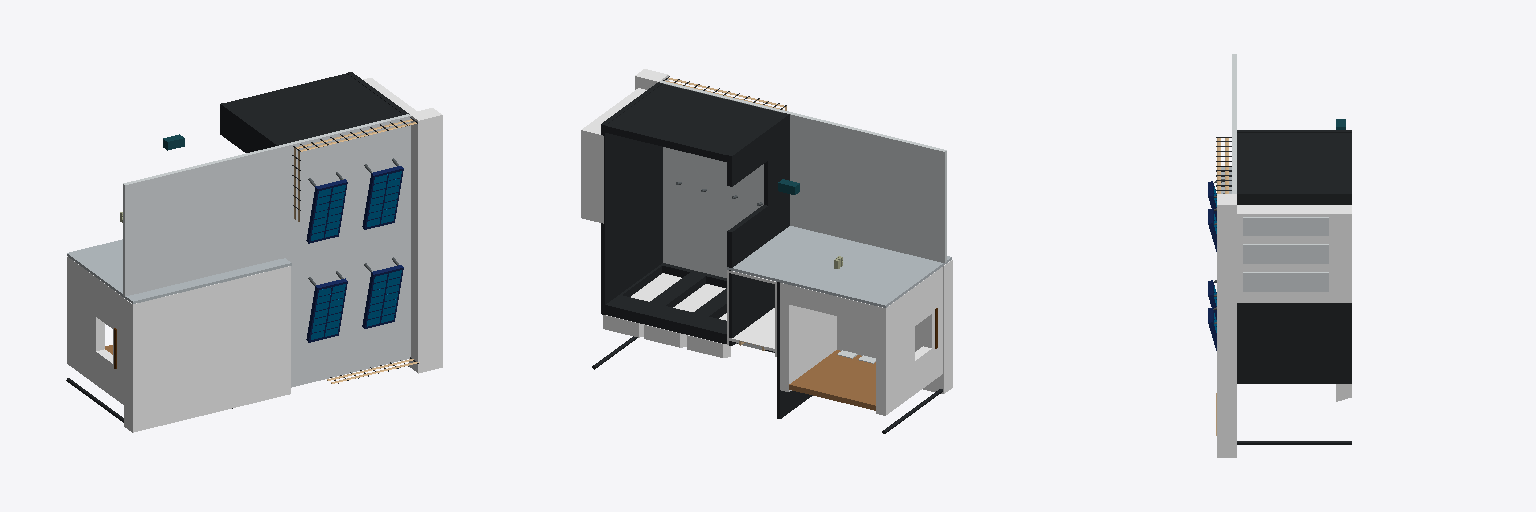
The model's file is tinker.obj.
3 views of the same model, side by side, from view 1: azimuth 30°, elevation 25°; view 2: azimuth 150°, elevation 25°; view 3: azimuth 270°, elevation 25° (orthographic).
Parts seen in each view (by area): view 1: obj_0; view 2: obj_0; view 3: obj_0.
Part boxes in pixels (x1,y1,x2,y2): obj_0: (66,72,442,432); obj_0: (581,69,952,433); obj_0: (1208,54,1351,457).
Size of the model in its own units: 36 by 28.04 by 14.44.